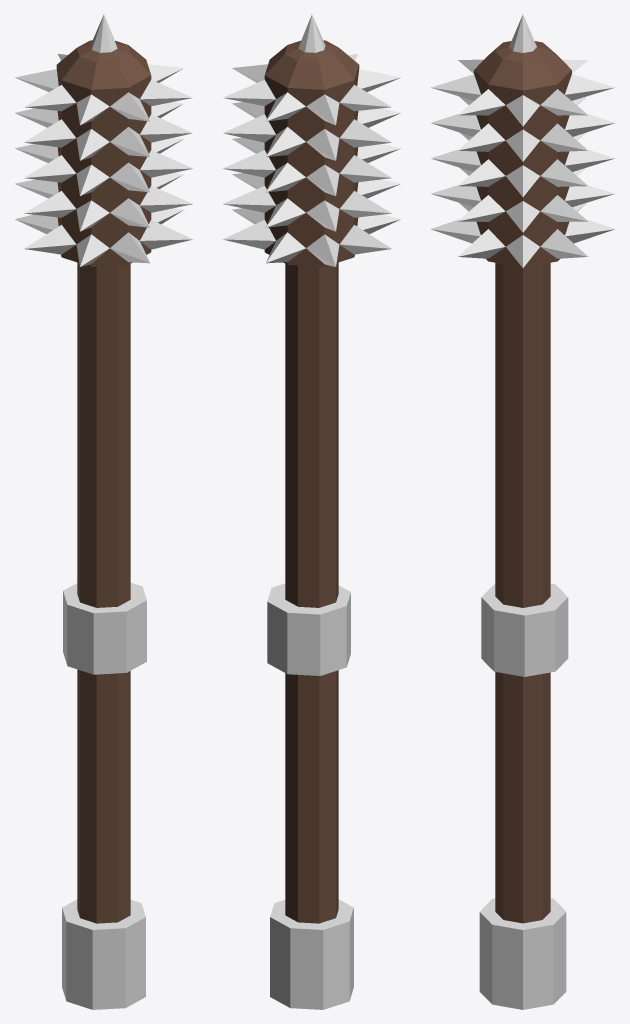
Rendered from mace2.fbx.
3 views of the same model, side by side, from view 1: azimuth 30°, elevation 25°; view 2: azimuth 150°, elevation 25°; view 3: azimuth 270°, elevation 25° (orthographic).
Visible parts, largest first — view 1: mace2; view 2: mace2; view 3: mace2.
Part boxes in pixels (x1,y1,x2,y2): mace2: (15,14,193,1009); mace2: (222,14,400,1009); mace2: (430,14,615,1009).
Size of the model in its own units: 25.29 by 147 by 25.29.
